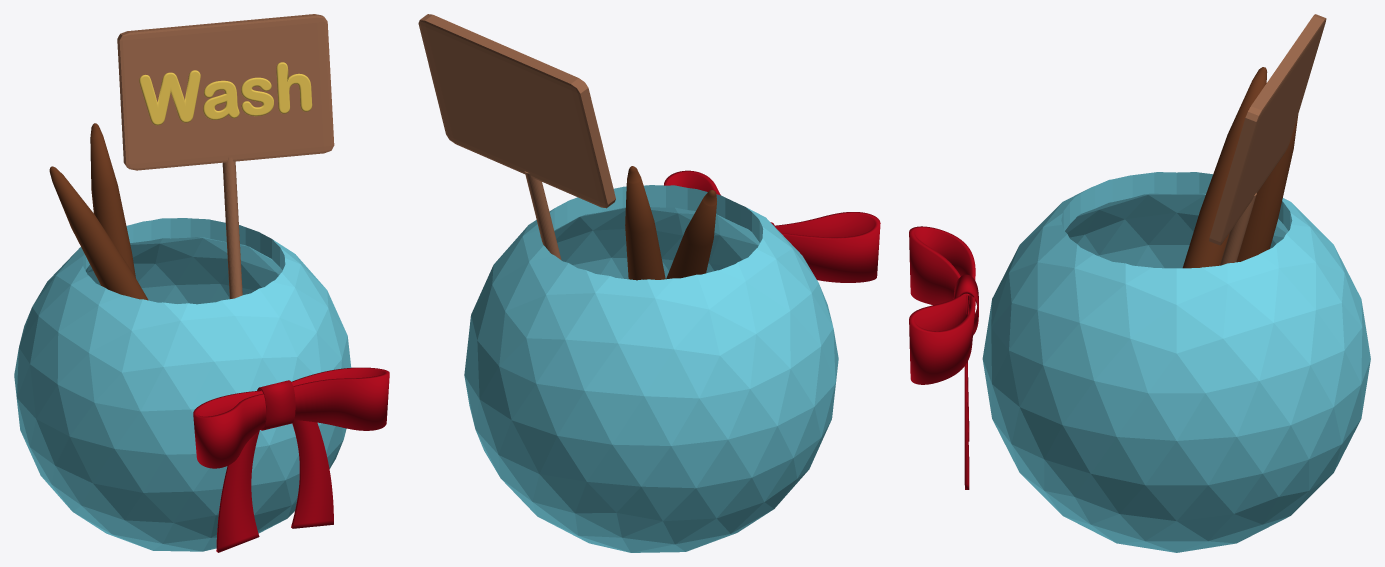
File: washbucket.fbx
3 renders of one model, left to right at view 1: azimuth 30°, elevation 25°; view 2: azimuth 150°, elevation 25°; view 3: azimuth 270°, elevation 25°, orthographic. The views are drawn at different scales.
Visible parts, largest first — view 1: Icosphere, Cube, Bow.013, Text.002, PaintbrushBody.001, PaintbrushBody.002, Cylinder.001; view 2: Icosphere, Cube, Bow.013, PaintbrushBody.002, PaintbrushBody.001, Cylinder.001; view 3: Icosphere, Bow.013, Cube, PaintbrushBody.001, PaintbrushBody.002, Cylinder.001.
Part boxes in pixels (x1,y1,x2,y2): Icosphere: (14,218,351,551); Cube: (117,14,334,170); Bow.013: (193,367,389,552); Text.002: (139,62,312,125); PaintbrushBody.001: (49,166,148,300); PaintbrushBody.002: (90,123,135,277); Cylinder.001: (222,157,242,298); Icosphere: (464,185,838,552); Cube: (418,14,615,208); Bow.013: (663,170,880,282); PaintbrushBody.002: (625,166,665,280); PaintbrushBody.001: (666,190,716,279); Cylinder.001: (524,171,561,260); Icosphere: (982,172,1370,552); Bow.013: (909,226,978,489); Cube: (1209,14,1326,245); PaintbrushBody.001: (1182,67,1267,268); PaintbrushBody.002: (1236,115,1298,262); Cylinder.001: (1220,193,1256,265).
Size of the model in its own units: 219 by 297 by 238.
